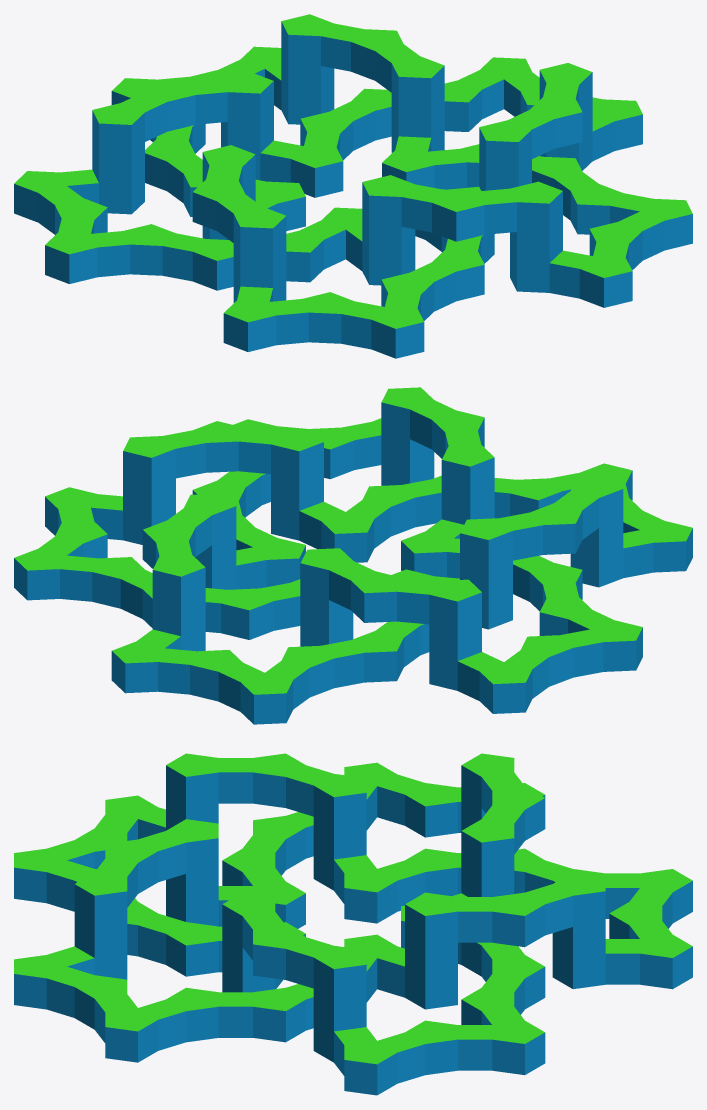
File: Stepped10CrossingKnotPentagons.glb
The picture shows the model from 3 angles, top to bottom: view 1: azimuth 30°, elevation 25°; view 2: azimuth 150°, elevation 25°; view 3: azimuth 270°, elevation 25°; orthographic projection. The views are drawn at different scales.
Parts seen in each view (by area): view 1: KNOT+M+5X+8Augmented+Penta+Prism; view 2: KNOT+M+5X+8Augmented+Penta+Prism; view 3: KNOT+M+5X+8Augmented+Penta+Prism.
Boxes of the visible parts, bbox=[...] form: KNOT+M+5X+8Augmented+Penta+Prism: bbox=[14, 14, 692, 358]; KNOT+M+5X+8Augmented+Penta+Prism: bbox=[14, 387, 692, 724]; KNOT+M+5X+8Augmented+Penta+Prism: bbox=[14, 753, 692, 1095].
Size of the model in its own units: 168 by 24.32 by 160.
